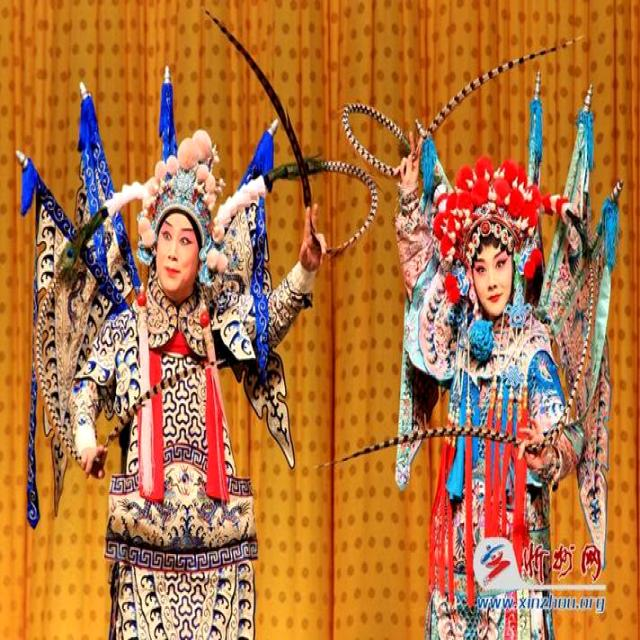Reeves-s Pheasant: (308, 207, 600, 475), (200, 3, 385, 265), (35, 258, 228, 478), (334, 27, 591, 182)
